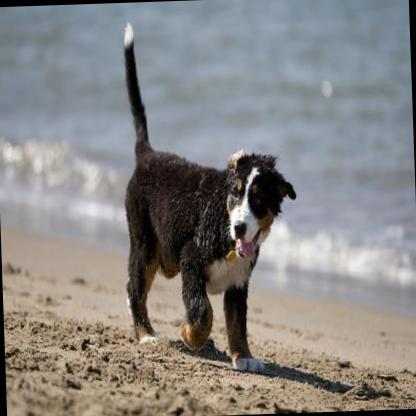Bernese_mountain_dog: (117, 13, 302, 376)
